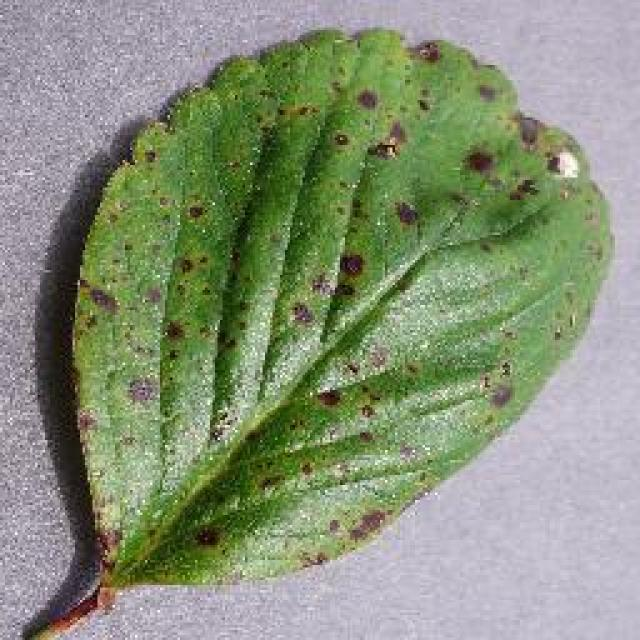Strawberry leaf scorch: (130, 150, 442, 483)
